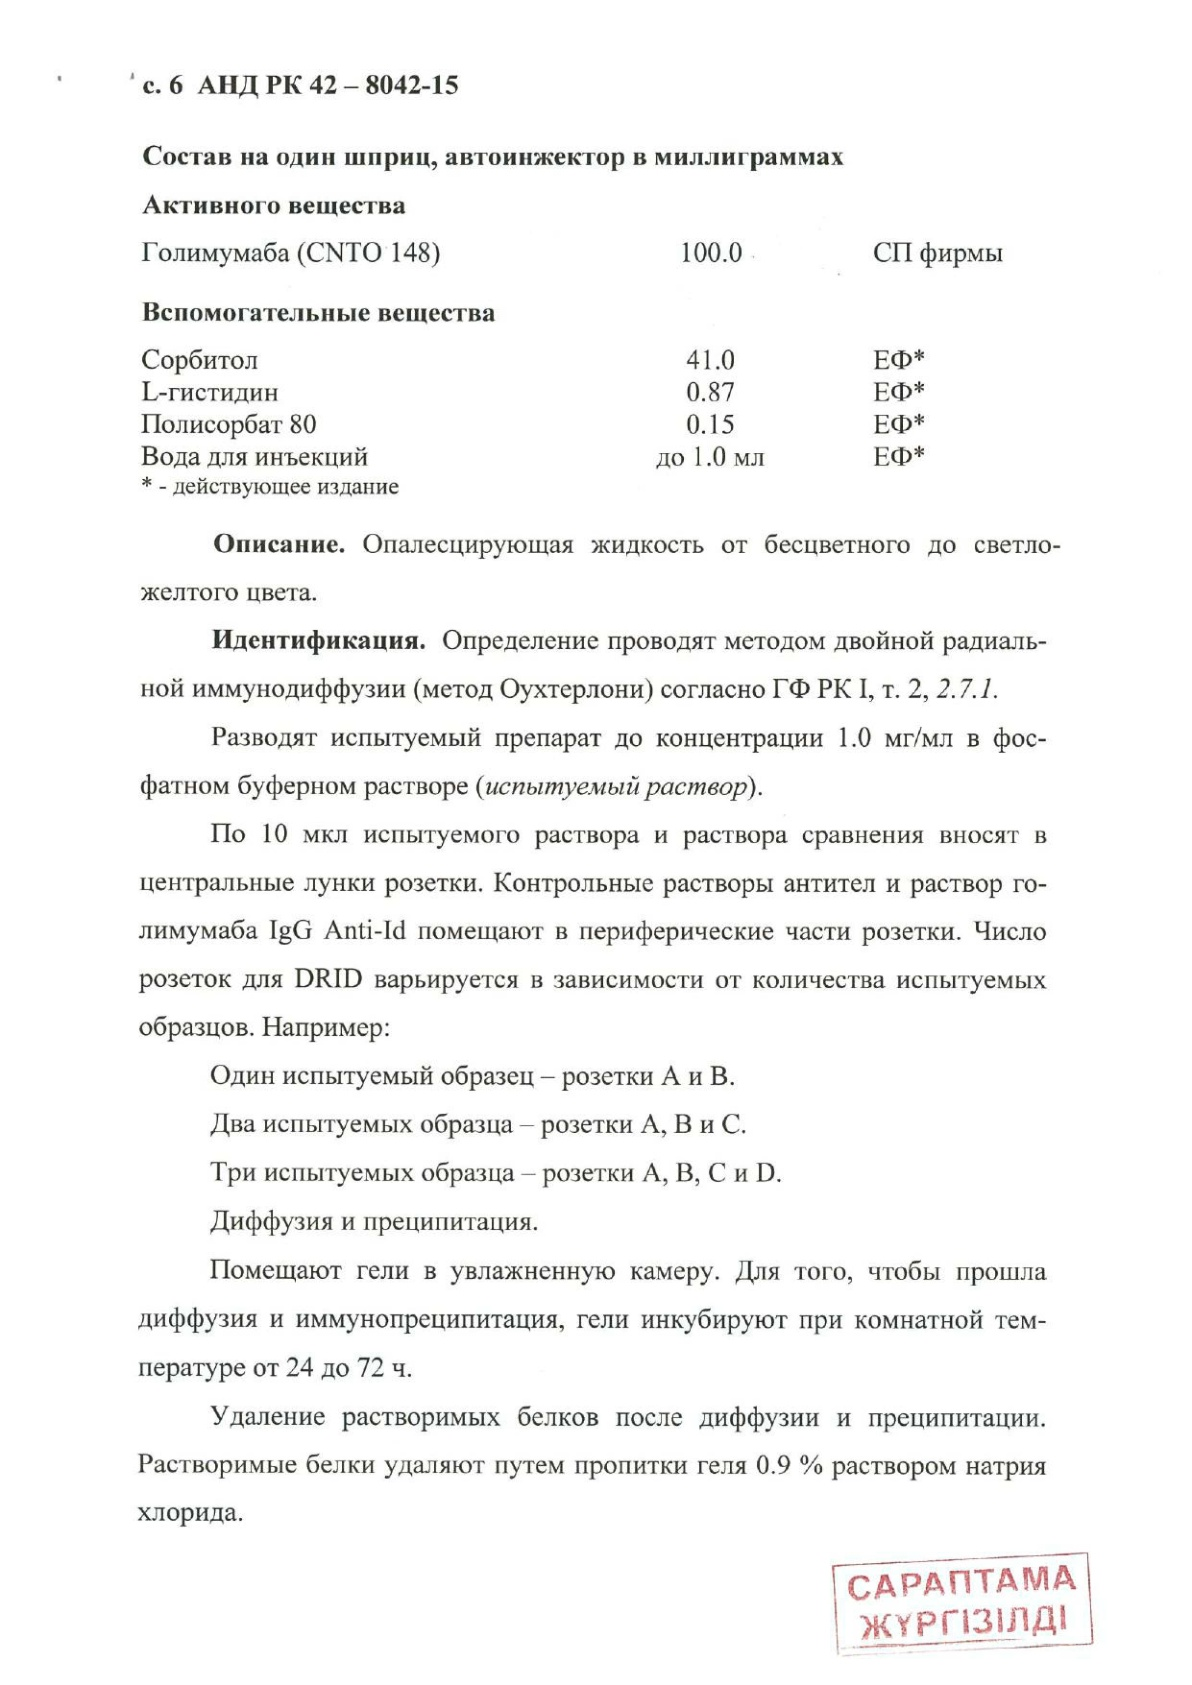nolines: (138, 194, 1009, 475)
